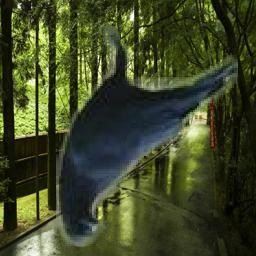Crow: (56, 27, 238, 248)
